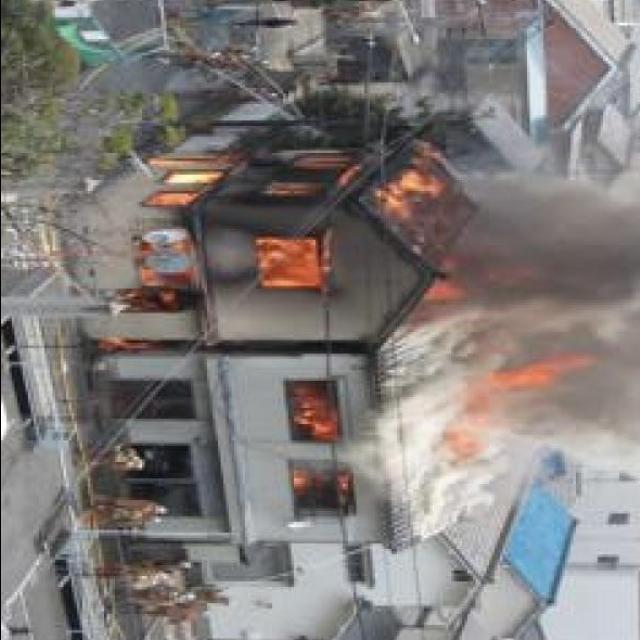Fire: (106, 149, 474, 319), (283, 383, 361, 519), (467, 351, 597, 409)
